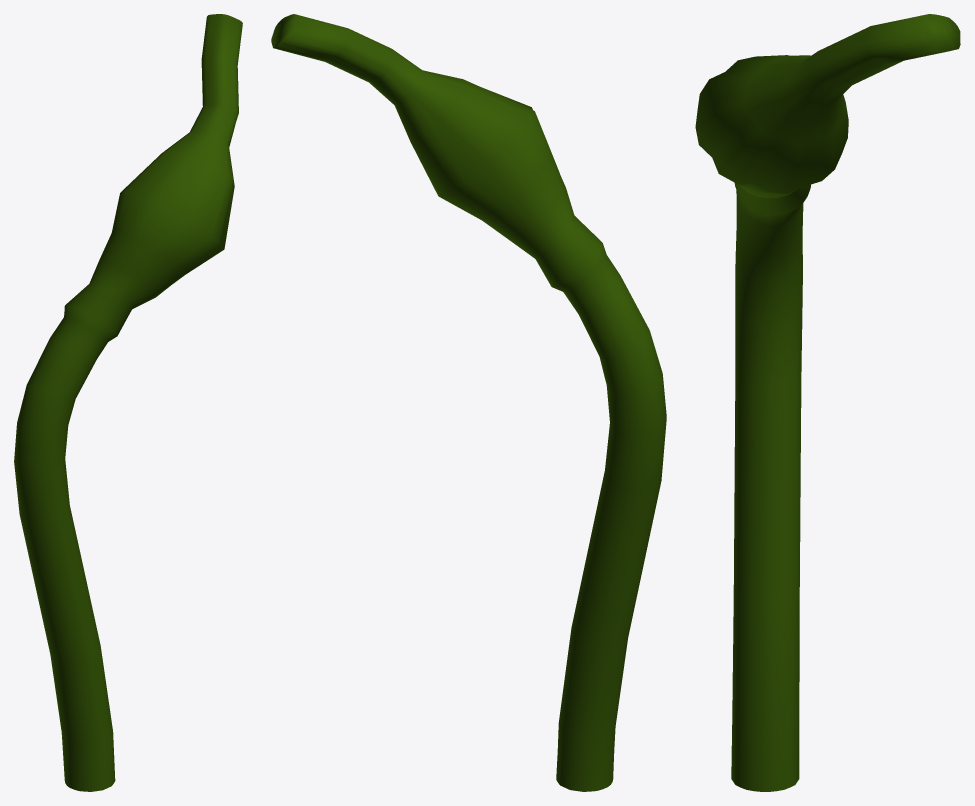
File: Planta1.fbx
3 renders of one model, left to right at view 1: azimuth 30°, elevation 25°; view 2: azimuth 150°, elevation 25°; view 3: azimuth 270°, elevation 25°, orthographic. The views are drawn at different scales.
Visible parts, largest first — view 1: Planta1; view 2: Planta1; view 3: Planta1.
Part boxes in pixels (x1,y1,x2,y2): Planta1: (14,14,242,791); Planta1: (271,14,666,791); Planta1: (695,14,960,791).
Bounding box in the file's own units: 66.1 × 150 × 40.49.
